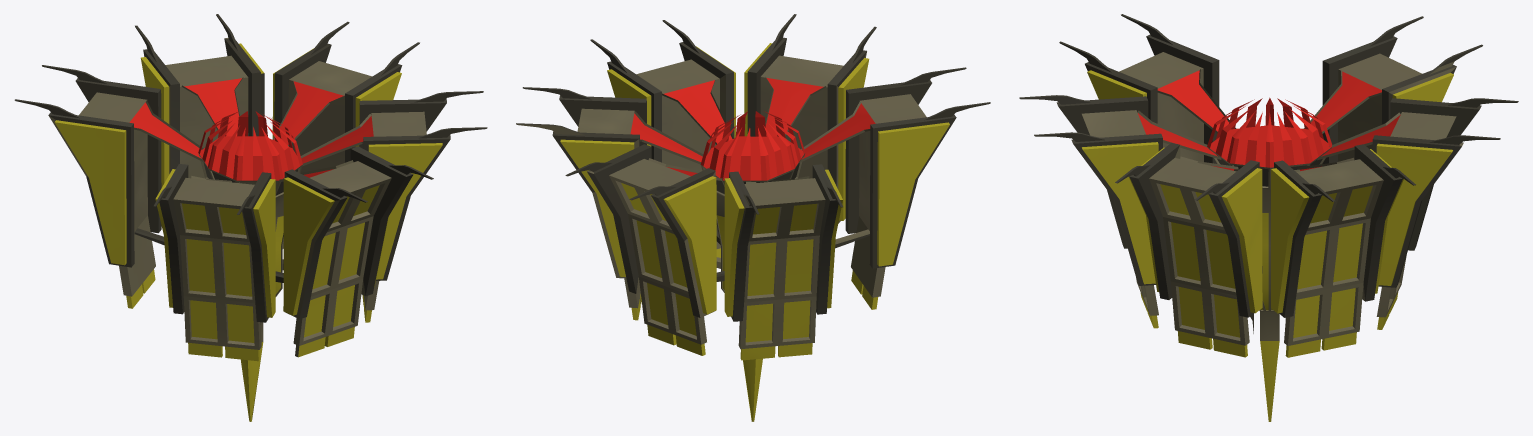
Rendered from babylon.fbx.
3 renders of one model, left to right at view 1: azimuth 30°, elevation 25°; view 2: azimuth 150°, elevation 25°; view 3: azimuth 270°, elevation 25°, orthographic. The views are drawn at different scales.
Parts seen in each view (by area): view 1: red; view 2: red; view 3: red.
Part boxes in pixels (x1=…): red: x1=14, y1=14, x2=487, y2=421; red: x1=516, y1=14, x2=990, y2=421; red: x1=1019, y1=14, x2=1518, y2=421.
Size of the model in its own units: 13945 by 11155 by 15696.
